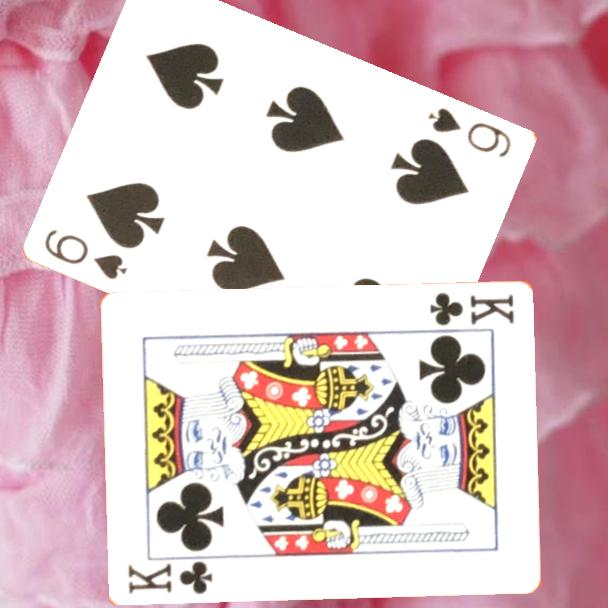c13: (426, 288, 518, 328), (125, 557, 216, 596)
s06: (41, 225, 131, 282), (425, 104, 515, 160)
